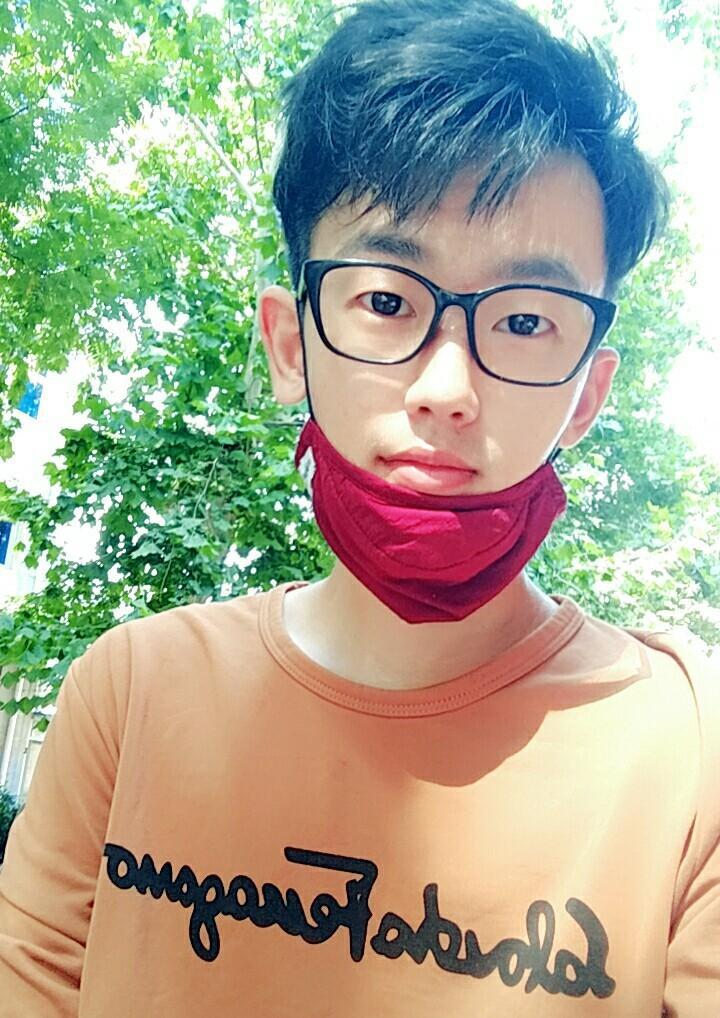WRONG: (285, 225, 628, 568)
